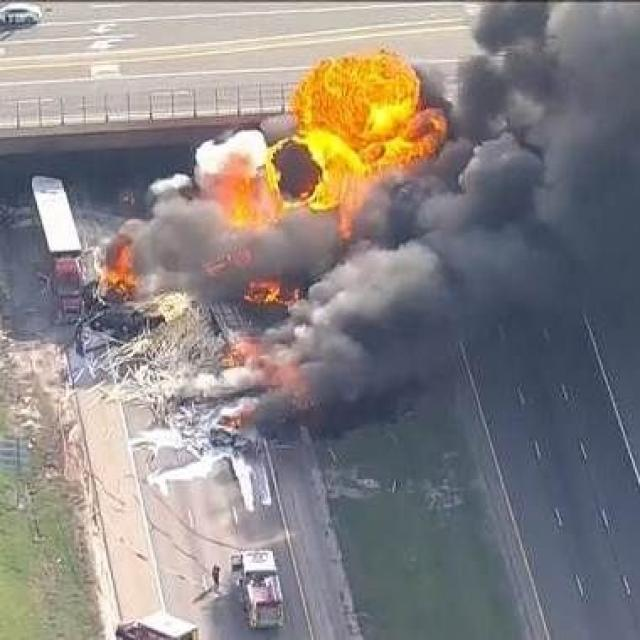Fire: (242, 56, 439, 290), (117, 236, 149, 293)
Smoke: (268, 21, 640, 427), (130, 168, 275, 295)
